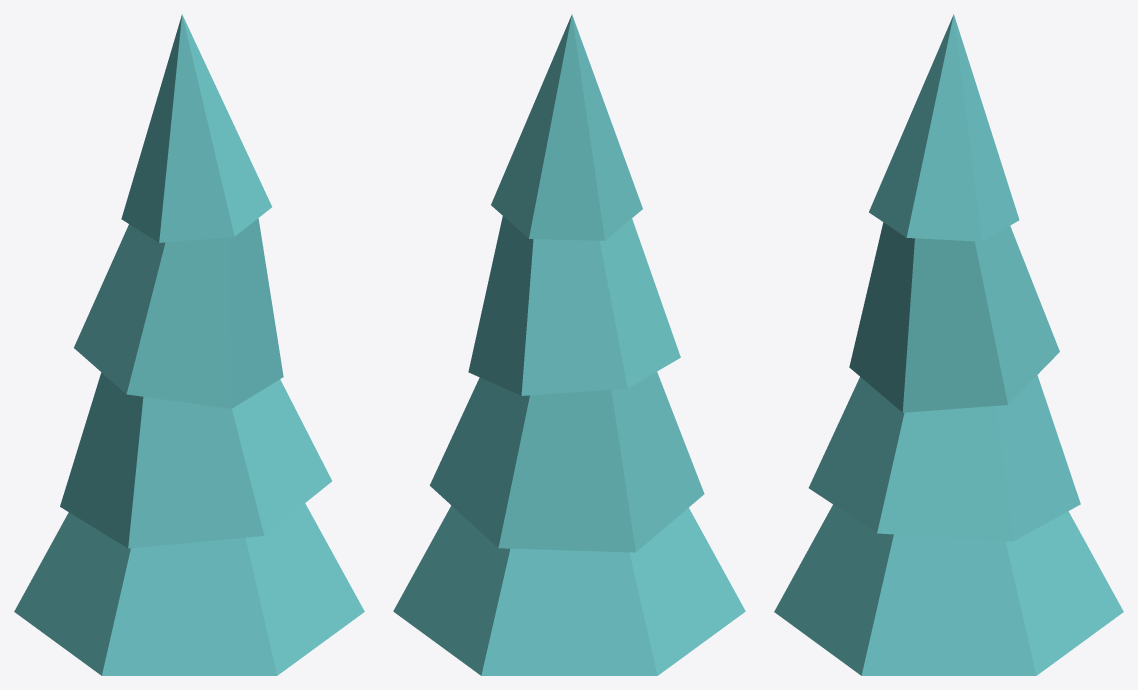
Rendered from tree_pineGroundB.glb.
3 renders of one model, left to right at view 1: azimuth 30°, elevation 25°; view 2: azimuth 150°, elevation 25°; view 3: azimuth 270°, elevation 25°, orthographic.
Visible parts, largest first — view 1: tree_pineGroundB; view 2: tree_pineGroundB; view 3: tree_pineGroundB.
Part boxes in pixels (x1,y1,x2,y2): tree_pineGroundB: (14, 14, 364, 675); tree_pineGroundB: (393, 14, 745, 675); tree_pineGroundB: (774, 14, 1123, 675).
Bounding box in the file's own units: 0.4804 × 1.04 × 0.5547.
